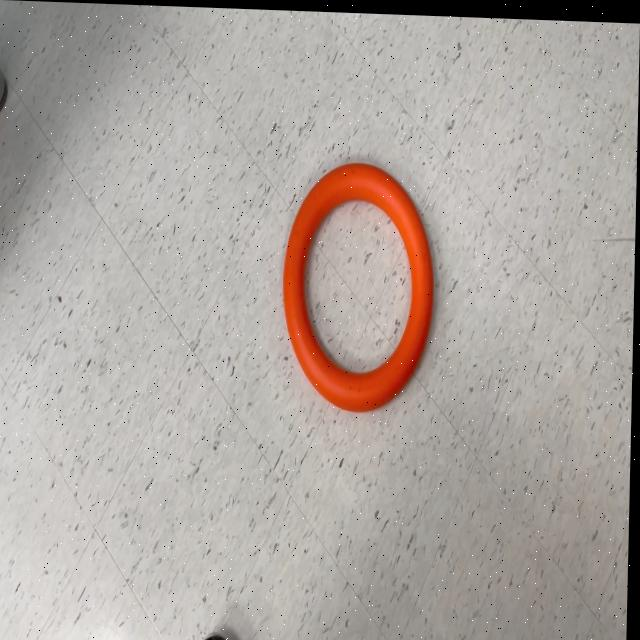note: (281, 157, 437, 412)
